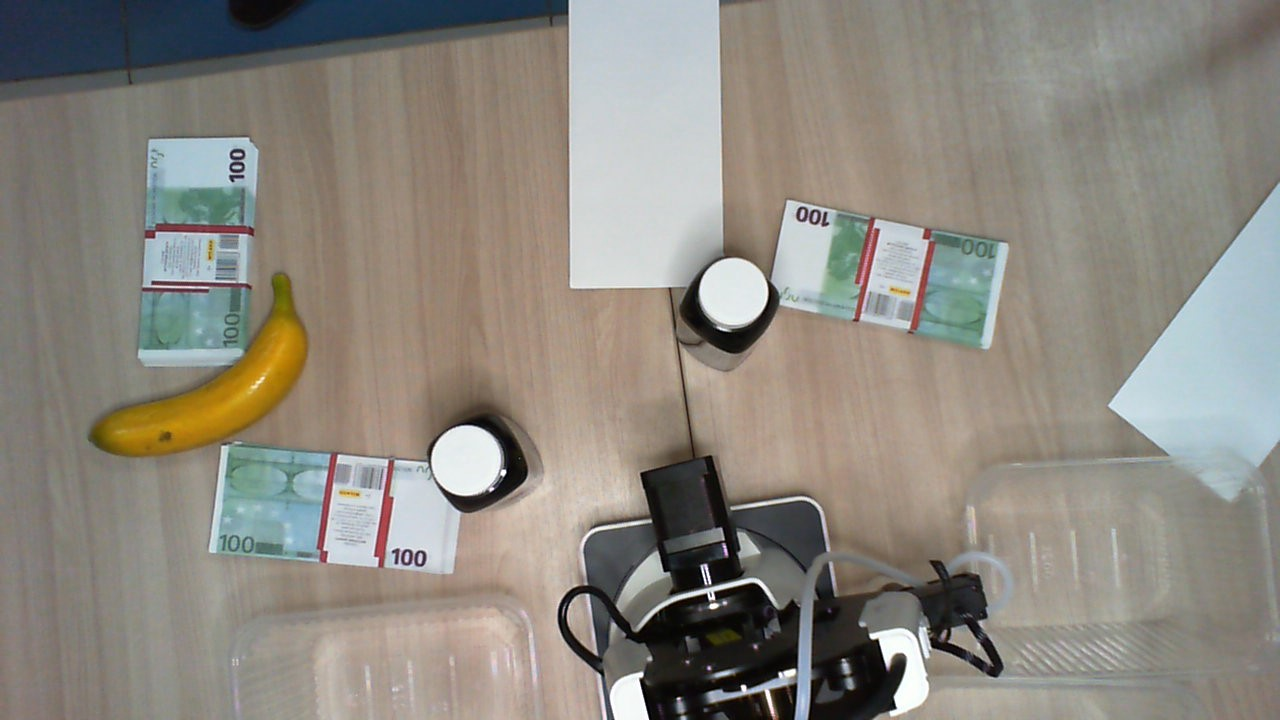banana: (83, 270, 310, 460)
bottle: (428, 414, 532, 515), (679, 258, 778, 353)
convert: (1108, 180, 1280, 500), (568, 1, 721, 292)
money: (768, 200, 1009, 348), (208, 448, 460, 571), (137, 137, 262, 366)
